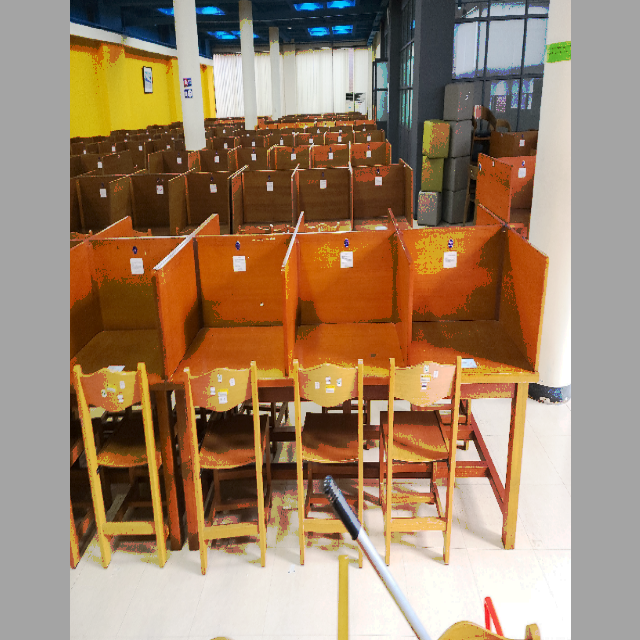empty: (411, 219, 544, 466), (287, 220, 407, 471), (170, 232, 282, 469)
